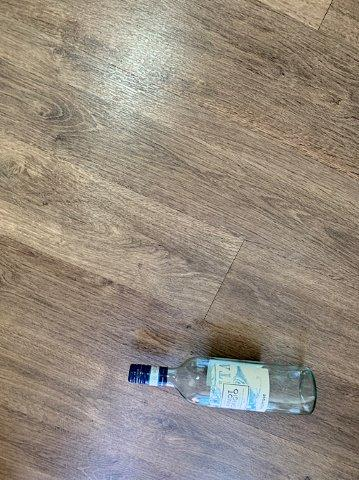botolkaca: (129, 357, 318, 414)
